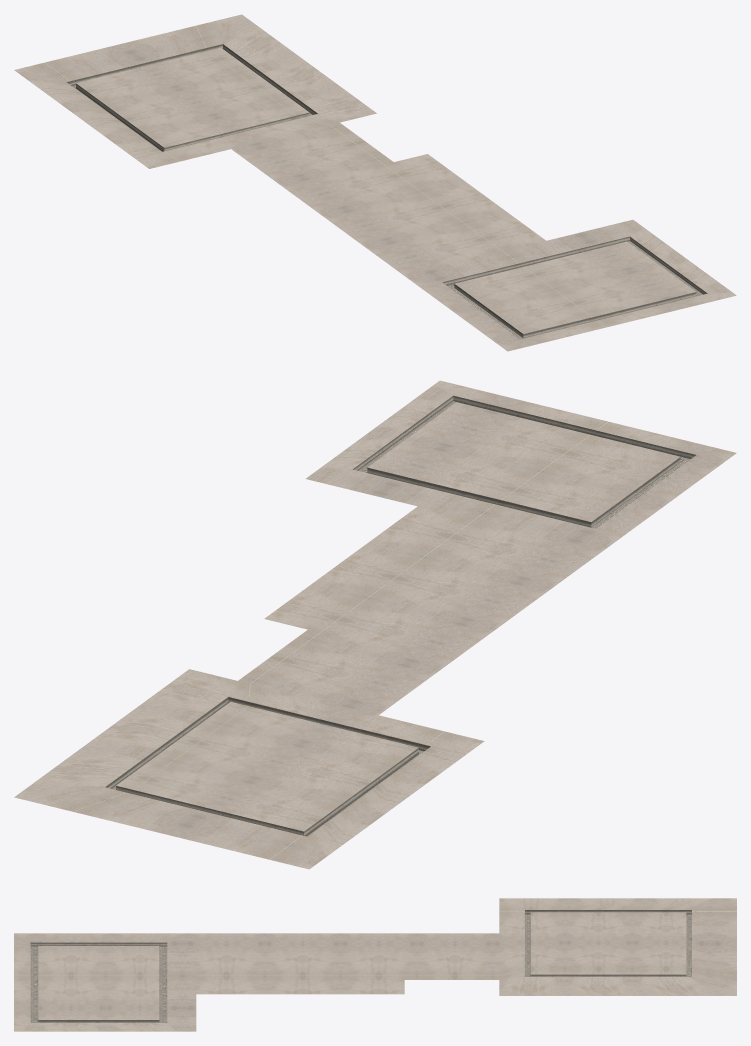
Rendered from DiningRoomCeiling.fbx.
3 views of the same model, one above another, from view 1: azimuth 30°, elevation 25°; view 2: azimuth 150°, elevation 25°; view 3: azimuth 270°, elevation 25° (orthographic). The views are drawn at different scales.
Visible parts, largest first — view 1: FloorPiece.001; view 2: FloorPiece.001; view 3: FloorPiece.001.
Boxes of the visible parts, bbox=[...] form: FloorPiece.001: bbox=[14, 14, 736, 351]; FloorPiece.001: bbox=[14, 380, 736, 869]; FloorPiece.001: bbox=[14, 898, 736, 1031].
Bounding box in the file's own units: 414 × 6.49 × 950.
